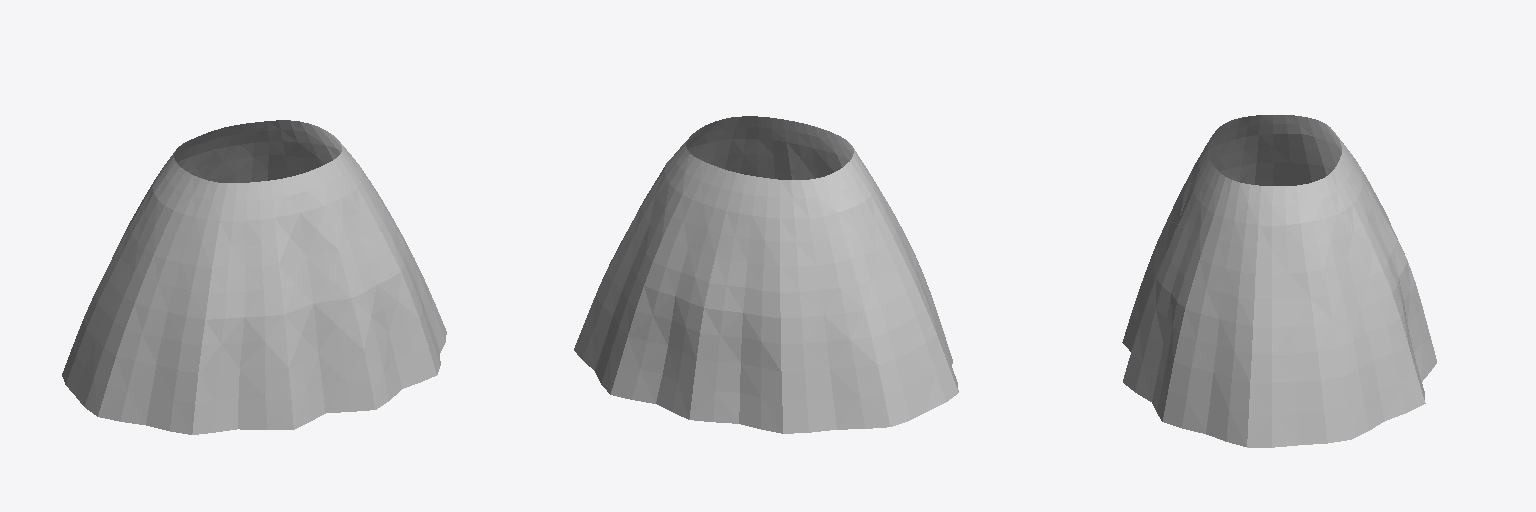
The model's file is 10_shirtshortfullwavy.obj.
3 views of the same model, side by side, from view 1: azimuth 30°, elevation 25°; view 2: azimuth 150°, elevation 25°; view 3: azimuth 270°, elevation 25° (orthographic).
Visible parts, largest first — view 1: skirtfront, skirtback, skirtbackleft, skirtbackright; view 2: skirtback, skirtbackleft, skirtfront, skirtbackright; view 3: skirtfront, skirtbackright, skirtback, skirtbackleft.
Part boxes in pixels (bbox=[...]): skirtfront: bbox=[75, 131, 446, 434]; skirtback: bbox=[175, 121, 268, 182]; skirtbackleft: bbox=[62, 140, 189, 394]; skirtbackright: bbox=[268, 120, 341, 180]; skirtback: bbox=[611, 161, 782, 433]; skirtbackleft: bbox=[780, 170, 926, 433]; skirtfront: bbox=[686, 116, 958, 411]; skirtbackright: bbox=[574, 137, 701, 394]; skirtfront: bbox=[1122, 115, 1299, 447]; skirtbackright: bbox=[1285, 170, 1424, 444]; skirtback: bbox=[1334, 133, 1436, 403]; skirtbackleft: bbox=[1285, 115, 1341, 185].
Bounding box in the file's own units: 25.29 × 14.71 × 19.74.